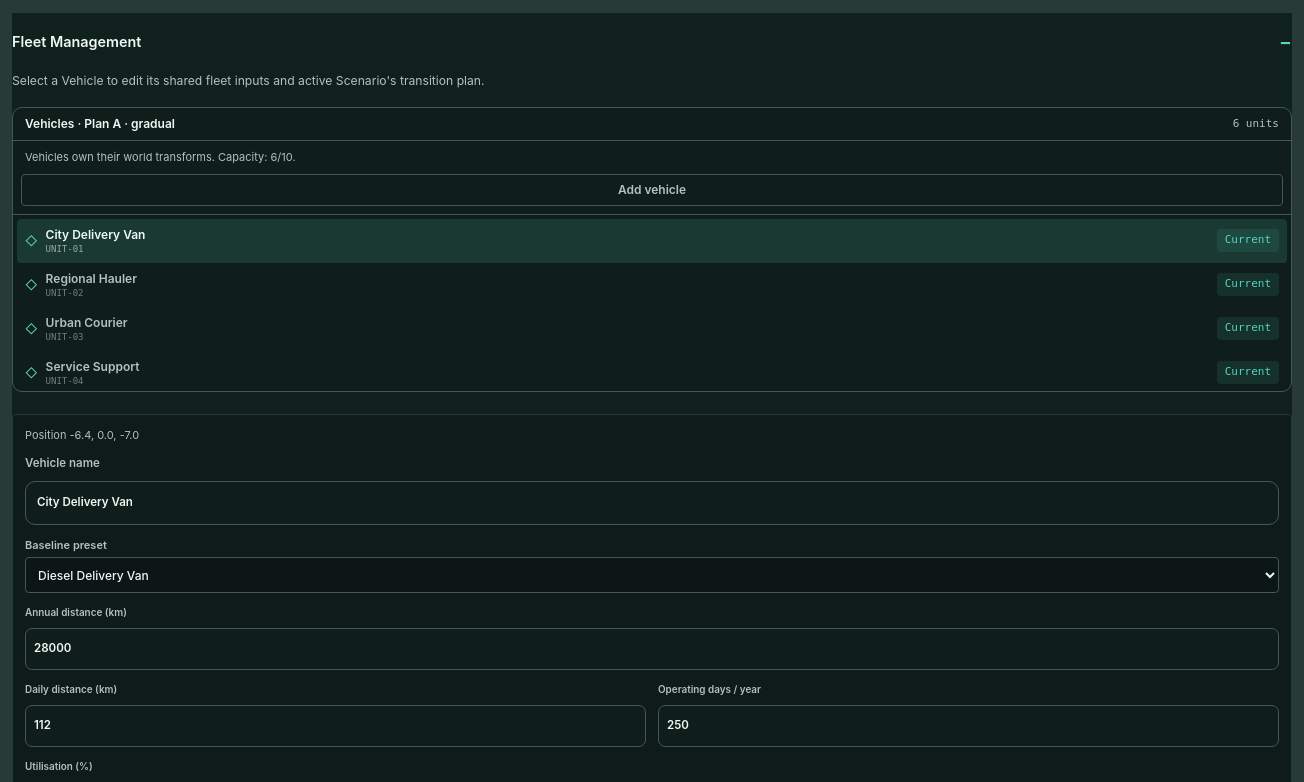
Fleet Management › commits a pending edit when selecting another vehicle
Click the number field labelled "Annual distance (km)": (652, 649) [25,628,1279,670]
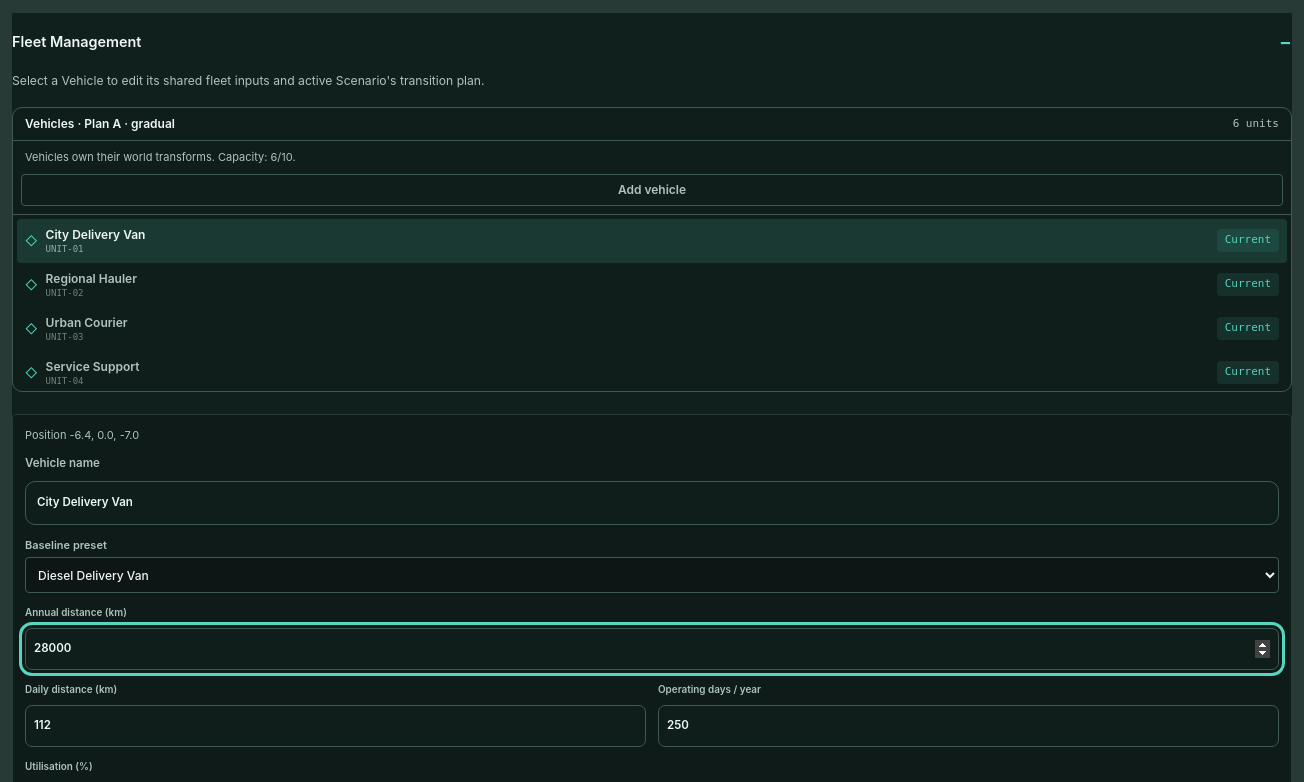
Type keys "{Control>}a{/Control}42000"
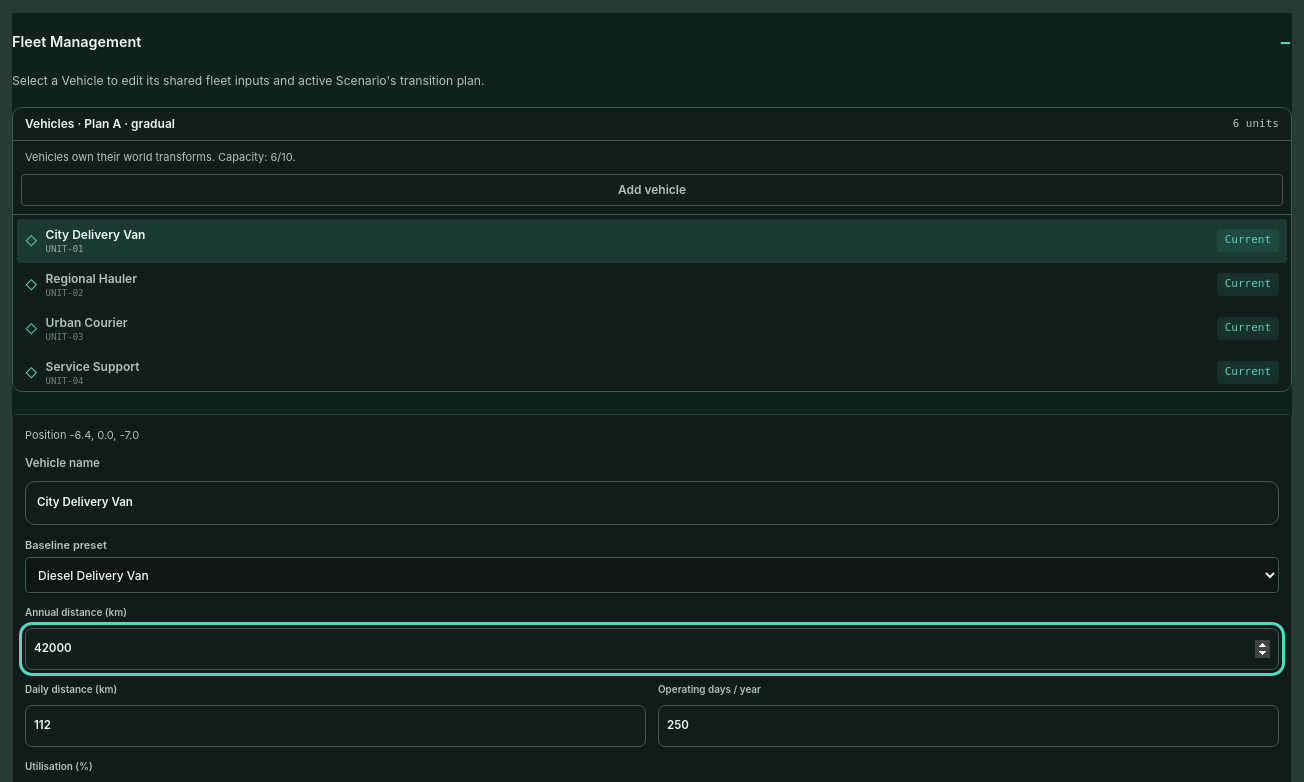
Click the button with aria-label "Select Regional Hauler in viewport": (91, 278) [17,263,1287,307]
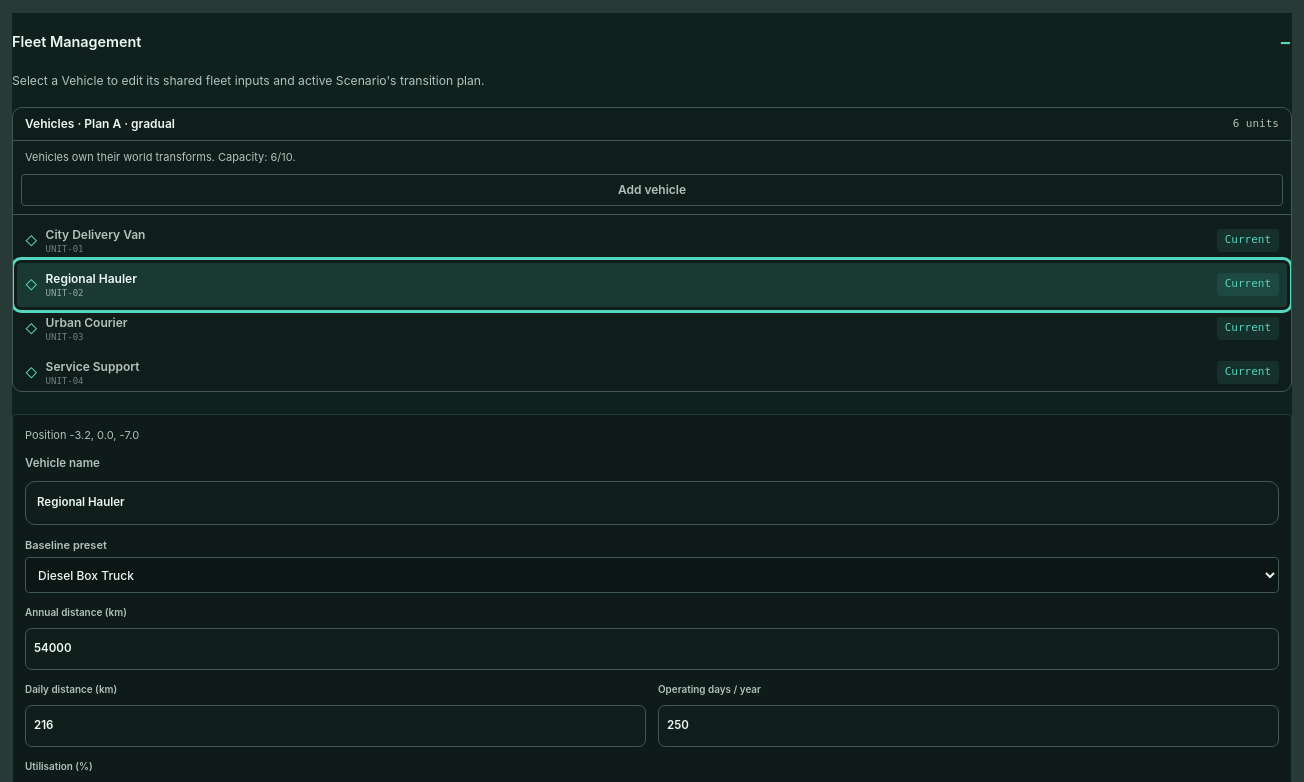
Expected: the field labelled "Vehicle name" holds "Regional Hauler", [25,480,1279,524]
